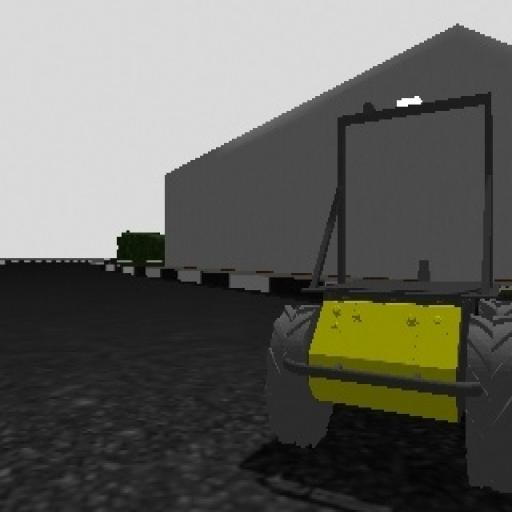huskya200: (264, 92, 512, 501)
